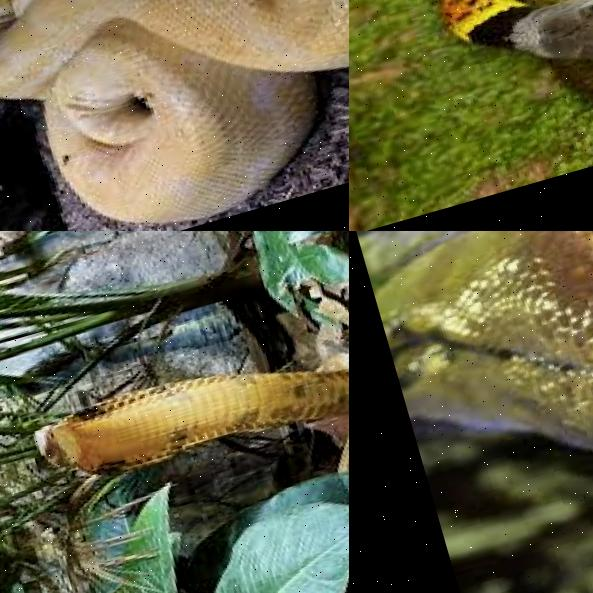snake: (0, 259, 349, 545), (0, 0, 349, 231), (349, 231, 593, 536), (349, 0, 593, 220)
